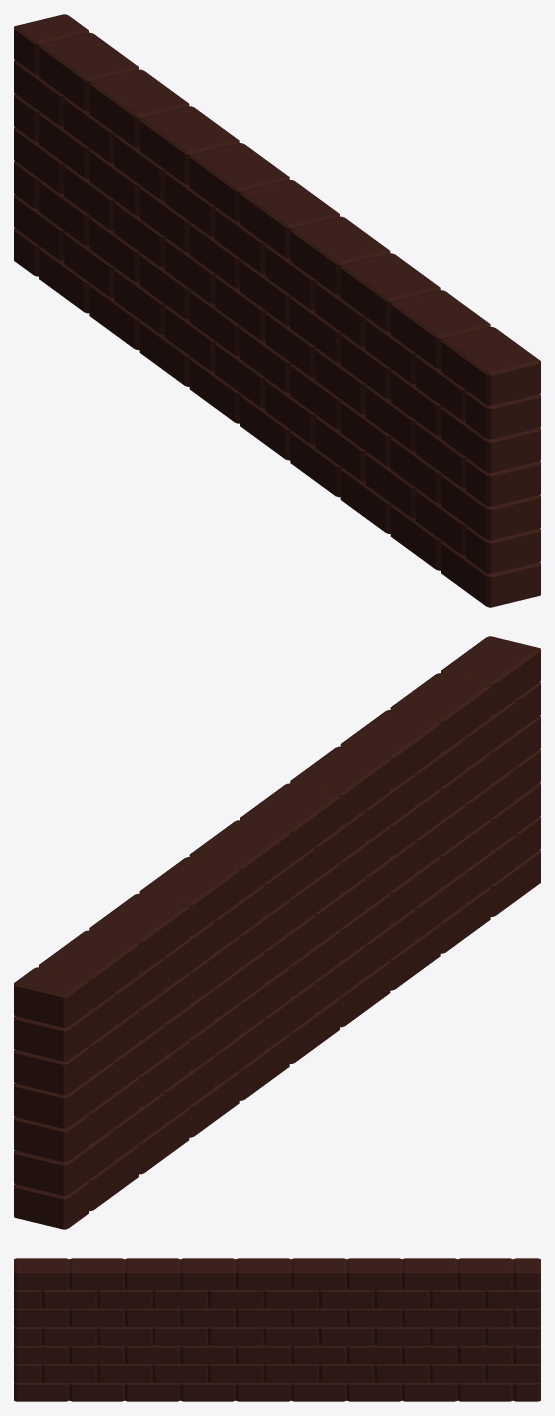
The model's file is tuğladuvar.fbx.
3 views of the same model, one above another, from view 1: azimuth 30°, elevation 25°; view 2: azimuth 150°, elevation 25°; view 3: azimuth 270°, elevation 25° (orthographic). The views are drawn at different scales.
Parts seen in each view (by area): view 1: Cube; view 2: Cube; view 3: Cube.
Part boxes in pixels (x1,y1,x2,y2): Cube: [14, 14, 540, 607]; Cube: [14, 636, 540, 1229]; Cube: [14, 1258, 540, 1401].
Size of the model in its own units: 0.5078 by 2.08 by 7.66.
